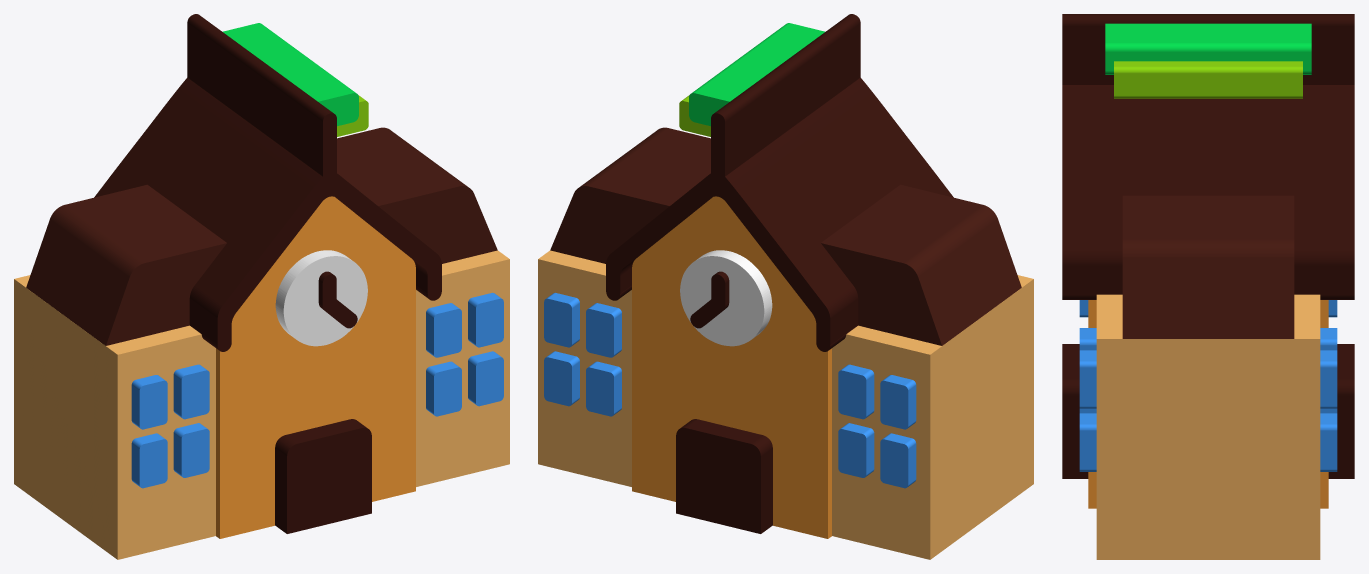
The picture shows the model from 3 angles, left to right: view 1: azimuth 30°, elevation 25°; view 2: azimuth 150°, elevation 25°; view 3: azimuth 270°, elevation 25°; orthographic projection. The views are drawn at different scales.
Visible parts, largest first — view 1: U+1F3EB_layer07_obj00, U+1F3EB_layer03_obj00, U+1F3EB_layer04_obj00, U+1F3EB_layer00_obj00, U+1F3EB_layer05_obj00, U+1F3EB_layer06_obj00, U+1F3EB_layer02_obj00; view 2: U+1F3EB_layer07_obj00, U+1F3EB_layer03_obj00, U+1F3EB_layer04_obj00, U+1F3EB_layer00_obj00, U+1F3EB_layer05_obj00, U+1F3EB_layer06_obj00, U+1F3EB_layer02_obj00; view 3: U+1F3EB_layer07_obj00, U+1F3EB_layer03_obj00, U+1F3EB_layer00_obj00, U+1F3EB_layer02_obj00, U+1F3EB_layer01_obj00, U+1F3EB_layer05_obj00, U+1F3EB_layer04_obj00.
Boxes of the visible parts, box(x1,y1,x2,y2) form: U+1F3EB_layer07_obj00: box(94, 14, 441, 533); U+1F3EB_layer03_obj00: box(14, 250, 509, 559); U+1F3EB_layer04_obj00: box(216, 196, 415, 538); U+1F3EB_layer00_obj00: box(26, 127, 497, 345); U+1F3EB_layer05_obj00: box(131, 292, 503, 488); U+1F3EB_layer06_obj00: box(275, 250, 367, 346); U+1F3EB_layer02_obj00: box(222, 23, 358, 126); U+1F3EB_layer07_obj00: box(606, 14, 953, 533); U+1F3EB_layer03_obj00: box(538, 250, 1033, 559); U+1F3EB_layer04_obj00: box(632, 196, 831, 538); U+1F3EB_layer00_obj00: box(550, 127, 1021, 345); U+1F3EB_layer05_obj00: box(544, 292, 916, 488); U+1F3EB_layer06_obj00: box(680, 250, 772, 346); U+1F3EB_layer02_obj00: box(689, 23, 825, 126); U+1F3EB_layer07_obj00: box(1062, 14, 1354, 478); U+1F3EB_layer03_obj00: box(1096, 294, 1320, 559); U+1F3EB_layer00_obj00: box(1122, 195, 1294, 338); U+1F3EB_layer02_obj00: box(1105, 23, 1311, 74); U+1F3EB_layer01_obj00: box(1114, 61, 1302, 98); U+1F3EB_layer05_obj00: box(1079, 300, 1337, 471); U+1F3EB_layer04_obj00: box(1088, 300, 1328, 508).
Bounding box in the file's own units: 0.5678 × 0.568 × 0.34.
